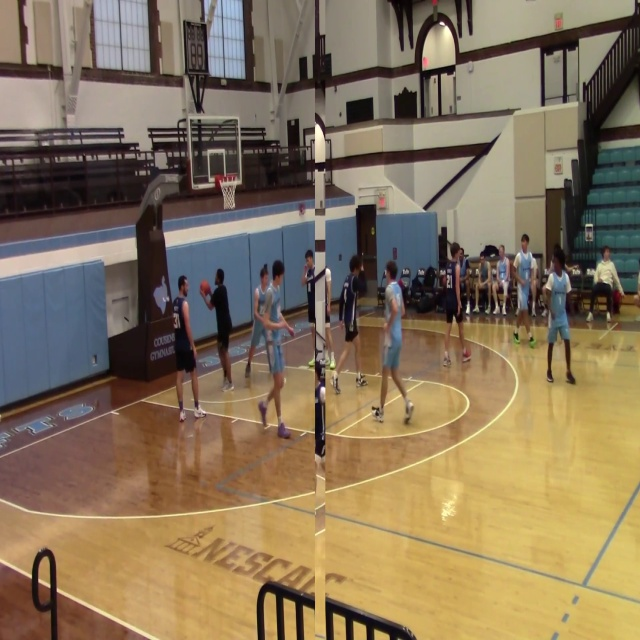Basketball: (200, 280, 210, 295)
